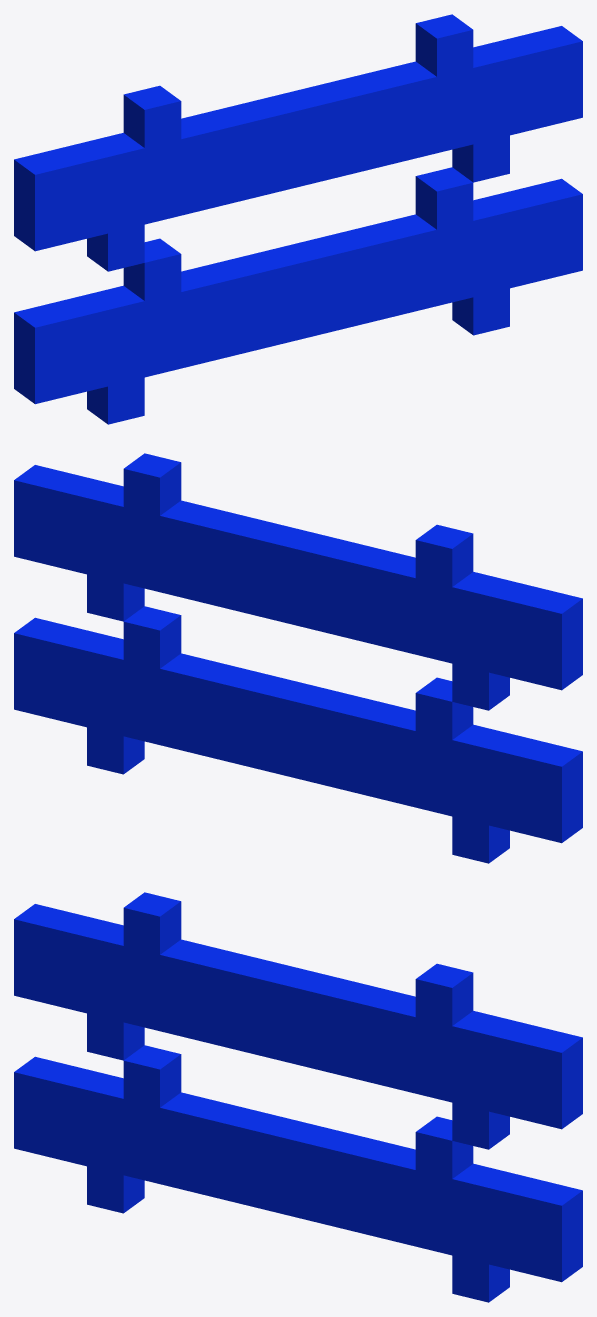
The model's file is MazeBlue2Stairs.vox.obj.
3 views of the same model, one above another, from view 1: azimuth 30°, elevation 25°; view 2: azimuth 150°, elevation 25°; view 3: azimuth 330°, elevation 25° (orthographic).
Bounding box in the file's own units: 1.5 × 0.8 × 0.1.
1 material, 1 textured.
